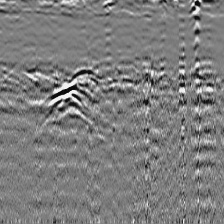cavities: (44, 66, 100, 127)
